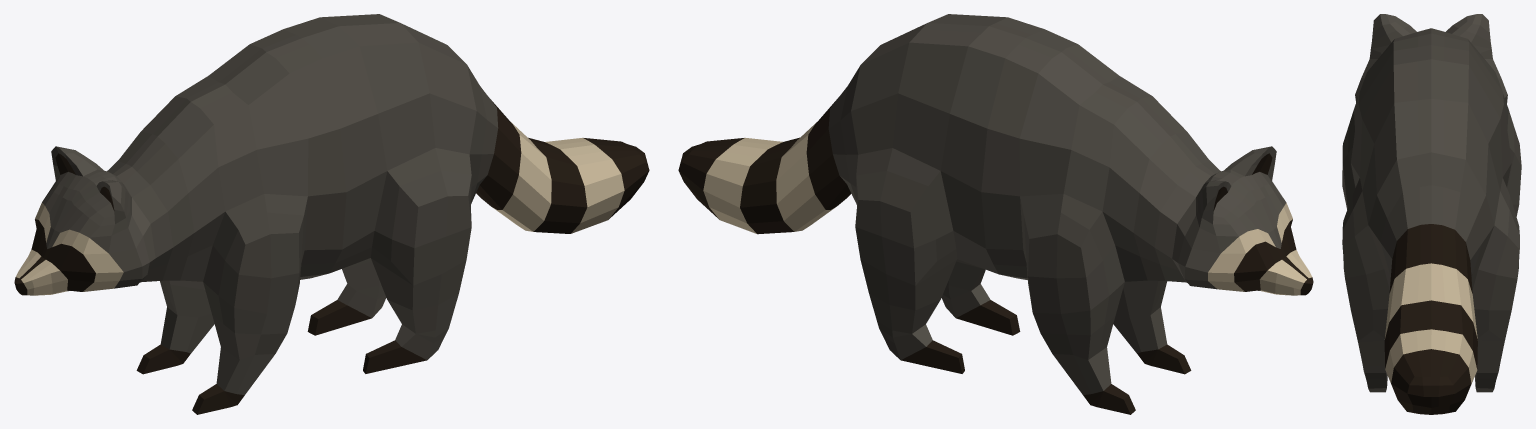
The model's file is Racoon2.fbx.
The picture shows the model from 3 angles, left to right: view 1: azimuth 30°, elevation 25°; view 2: azimuth 150°, elevation 25°; view 3: azimuth 270°, elevation 25°; orthographic projection. The views are drawn at different scales.
Parts seen in each view (by area): view 1: Raccoon; view 2: Raccoon; view 3: Raccoon.
Part boxes in pixels (<box>): Raccoon: <box>14,14,649,414</box>; Raccoon: <box>678,14,1313,414</box>; Raccoon: <box>1342,14,1521,414</box>.
Bounding box in the file's own units: 89.55 × 44.59 × 23.41.
